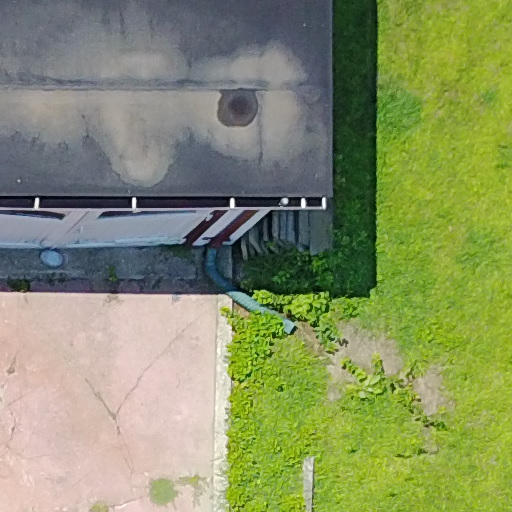gutter: (189, 241, 311, 336)
